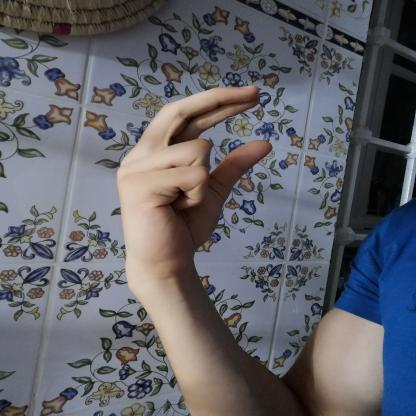DHELL: (108, 76, 281, 289)
